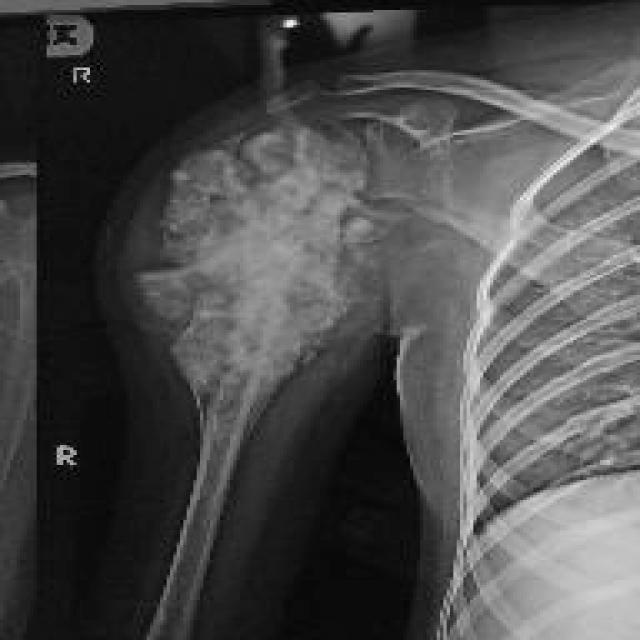bone-cancer: (130, 120, 382, 421)
